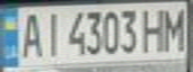0: (103, 7, 121, 55)
3: (118, 6, 142, 55), (84, 7, 106, 56)
4: (63, 8, 87, 56)
A: (15, 9, 45, 60)
H: (139, 5, 169, 53)
I: (39, 8, 63, 59)
M: (160, 3, 190, 52)
